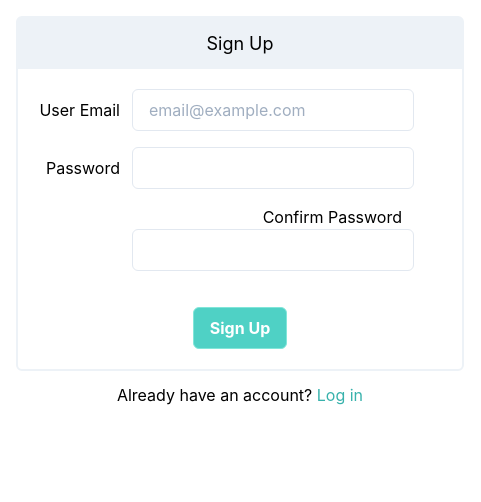
Scenario: invalid input to password shows error
Type "password" into the password field labelled "Password" at (273, 168), box x1=132 y1=147 x2=414 y2=189
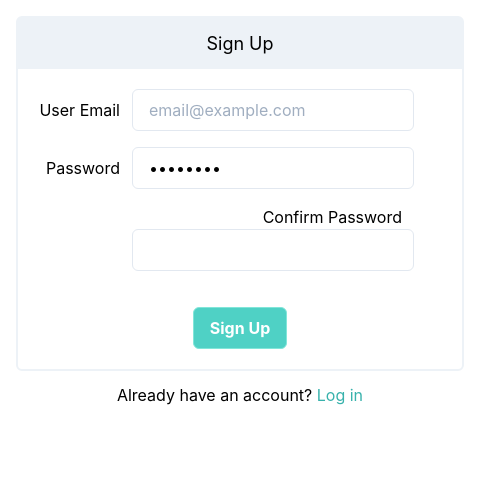
Type "passwprd" into the password field labelled "Confirm Password" at (273, 250), box x1=132 y1=229 x2=414 y2=271
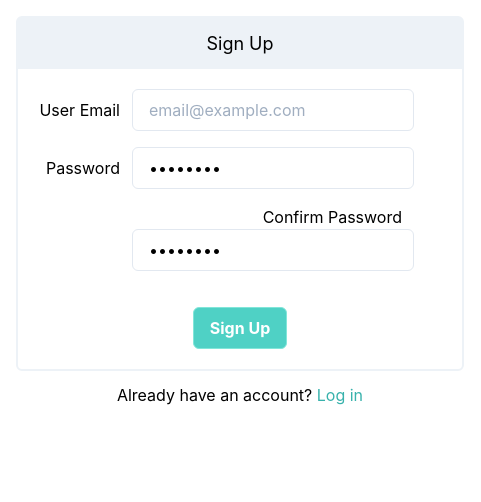
Click the button at (240, 328), box x1=193 y1=307 x2=287 y2=349
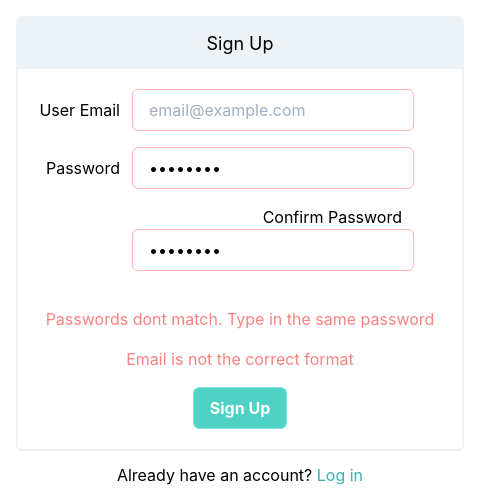
Result: the text "Passwords dont match. Type in the same password" is shown at x1=46 y1=309 x2=434 y2=329
